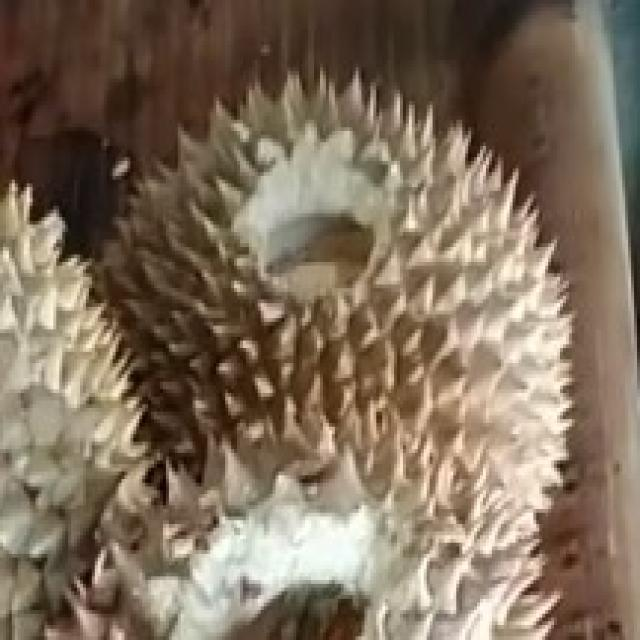defective: (87, 59, 572, 622)
